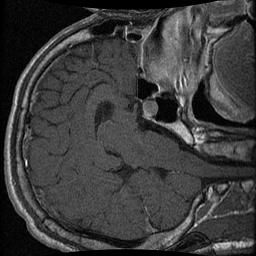pituitary tumour: (141, 98, 159, 118)
